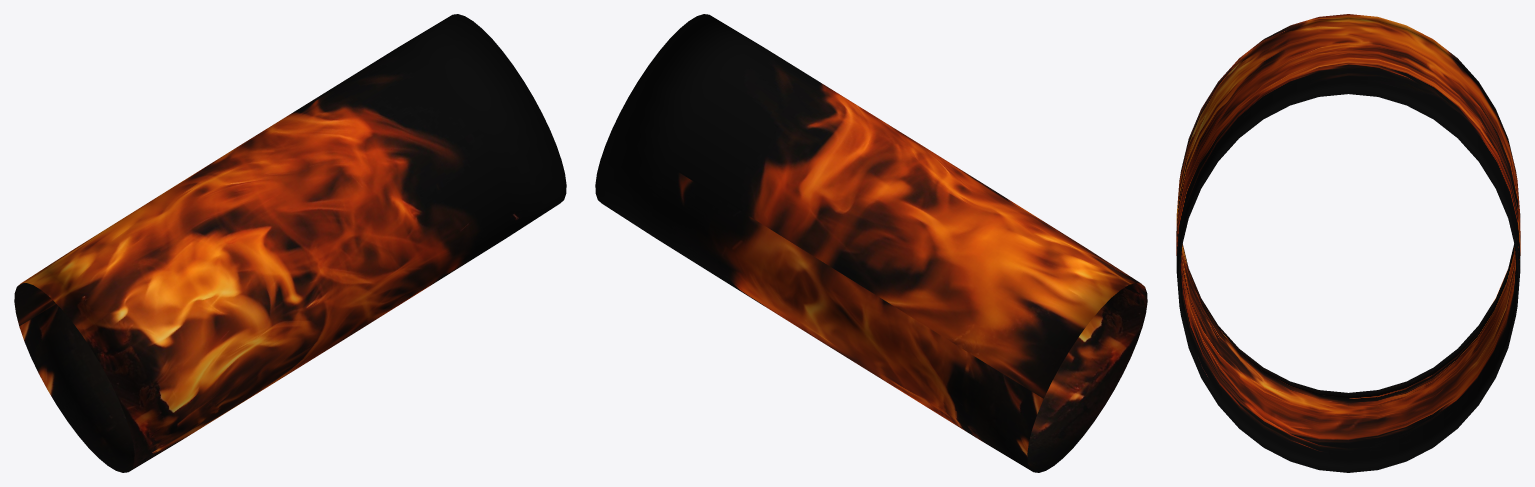
The model's file is toboggan3.FBX.
3 renders of one model, left to right at view 1: azimuth 30°, elevation 25°; view 2: azimuth 150°, elevation 25°; view 3: azimuth 270°, elevation 25°, orthographic. The views are drawn at different scales.
Visible parts, largest first — view 1: Tube002; view 2: Tube002; view 3: Tube002.
Part boxes in pixels (<box>): Tube002: <box>14,14,566,472</box>; Tube002: <box>595,14,1147,472</box>; Tube002: <box>1176,14,1520,472</box>.
Size of the model in its own units: 6133 by 4178 by 2171.
1 material, 1 textured.
